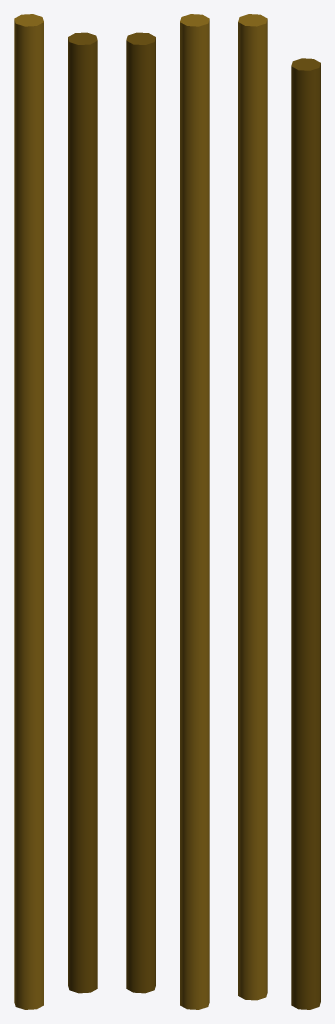
File: chopsticks.glb
The picture shows the model from 3 angles, left to right: view 1: azimuth 30°, elevation 25°; view 2: azimuth 150°, elevation 25°; view 3: azimuth 330°, elevation 25°; orthographic projection.
Parts seen in each view (by area): view 1: stick_a, stick_b; view 2: stick_a, stick_b; view 3: stick_a, stick_b.
Boxes of the visible parts, x1,y1,x2,y2 form: stick_a: [14, 14, 43, 1009]; stick_b: [68, 32, 97, 993]; stick_a: [180, 14, 209, 1009]; stick_b: [126, 32, 155, 993]; stick_a: [238, 14, 267, 1000]; stick_b: [291, 58, 320, 1009].
Size of the model in its own units: 0.12 by 1.4 by 0.04.
